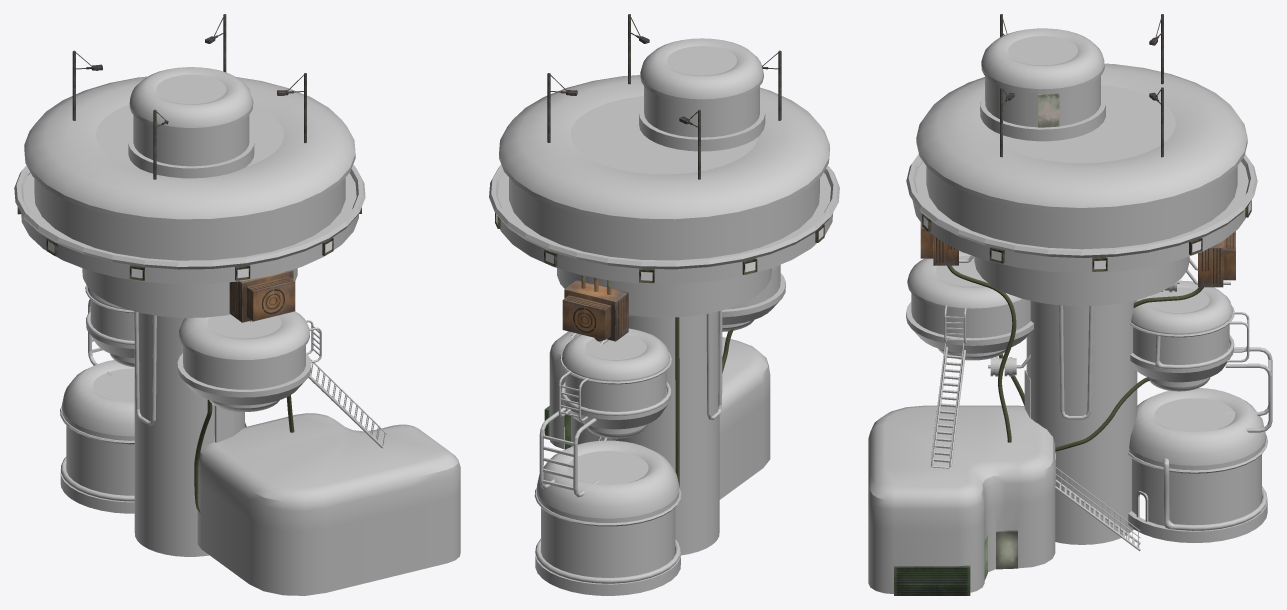
Rendered from N Tower to Unity.fbx.
3 views of the same model, side by side, from view 1: azimuth 30°, elevation 25°; view 2: azimuth 150°, elevation 25°; view 3: azimuth 270°, elevation 25° (orthographic).
Visible parts, largest first — view 1: Cylinder.002, Cube, Cylinder, Cylinder.007, Cylinder.004, Cylinder.001, Cylinder.031, Cube.022, Cylinder.003, Cylinder.032, NurbsPath.018, Cube.026 (+2 smaller); view 2: Cylinder.002, Cylinder.001, Cylinder, Cylinder.007, Cube, Cylinder.003, Cylinder.031, Cube.024, Cylinder.004, Cylinder.032, Cylinder.005, Cylinder.029 (+6 smaller); view 3: Cylinder.002, Cube, Cylinder, Cylinder.001, Cylinder.007, Cylinder.004, Cylinder.003, Cylinder.031, Cube.025, Cube.024, Cylinder.005, NurbsPath.004 (+13 smaller).
Boxes of the visible parts, left/top/right/bottom form: Cylinder.002: left=21, top=76, right=358, bottom=284; Cube: left=197, top=413, right=460, bottom=595; Cylinder: left=82, top=268, right=297, bottom=556; Cylinder.007: left=128, top=67, right=254, bottom=178; Cylinder.004: left=177, top=311, right=311, bottom=411; Cylinder.001: left=60, top=360, right=134, bottom=513; Cylinder.031: left=14, top=164, right=365, bottom=269; Cube.022: left=229, top=269, right=295, bottom=322; Cylinder.003: left=86, top=287, right=134, bottom=367; Cylinder.032: left=72, top=14, right=306, bottom=179; NurbsPath.018: left=134, top=311, right=156, bottom=425; Cube.026: left=17, top=207, right=361, bottom=280; Cylinder.002: left=498, top=75, right=832, bottom=284; Cylinder.001: left=535, top=440, right=680, bottom=595; Cylinder: left=557, top=268, right=771, bottom=555; Cylinder.007: left=639, top=38, right=765, bottom=151; Cube: left=549, top=331, right=770, bottom=499; Cylinder.003: left=561, top=328, right=670, bottom=438; Cylinder.031: left=489, top=164, right=839, bottom=269; Cube.024: left=562, top=275, right=628, bottom=341; Cylinder.004: left=722, top=264, right=785, bottom=331; Cylinder.032: left=547, top=14, right=781, bottom=179; Cylinder.005: left=535, top=539, right=680, bottom=583; Cylinder.029: left=560, top=352, right=671, bottom=415; Cylinder.002: left=912, top=63, right=1248, bottom=272; Cube: left=868, top=405, right=1055, bottom=593; Cylinder: left=974, top=256, right=1189, bottom=544; Cylinder.001: left=1128, top=388, right=1267, bottom=542; Cylinder.007: left=980, top=28, right=1105, bottom=141; Cylinder.004: left=906, top=250, right=1033, bottom=360; Cylinder.003: left=1130, top=280, right=1233, bottom=391; Cylinder.031: left=906, top=154, right=1257, bottom=257; Cube.025: left=894, top=565, right=970, bottom=595; Cube.024: left=1198, top=231, right=1235, bottom=287; Cylinder.005: left=1163, top=458, right=1267, bottom=530; NurbsPath.004: left=1059, top=305, right=1093, bottom=419.
Bounding box in the file's own units: 3430 × 4701 × 3664.
